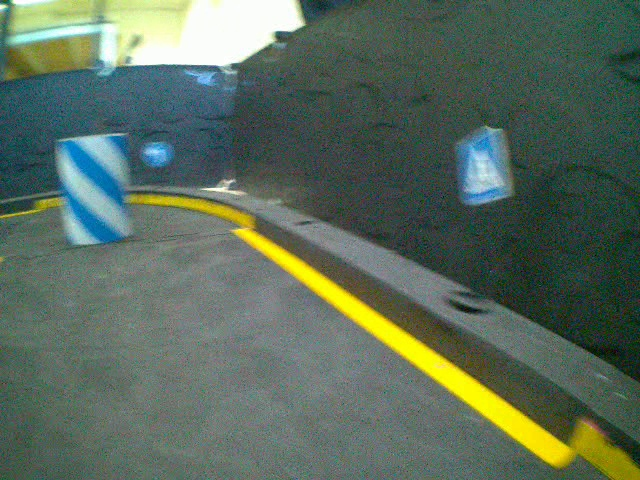bucket: (54, 131, 135, 249)
